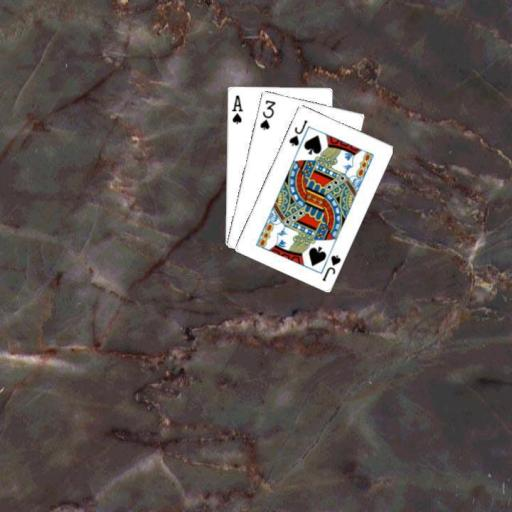card-corner: (319, 252, 342, 282), (256, 97, 276, 131), (286, 117, 308, 147), (228, 92, 244, 125)
